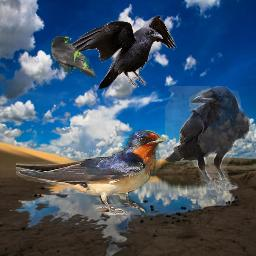Crow: (165, 86, 250, 190), (63, 15, 177, 89), (51, 36, 97, 77)
Swallow: (16, 130, 166, 215)
